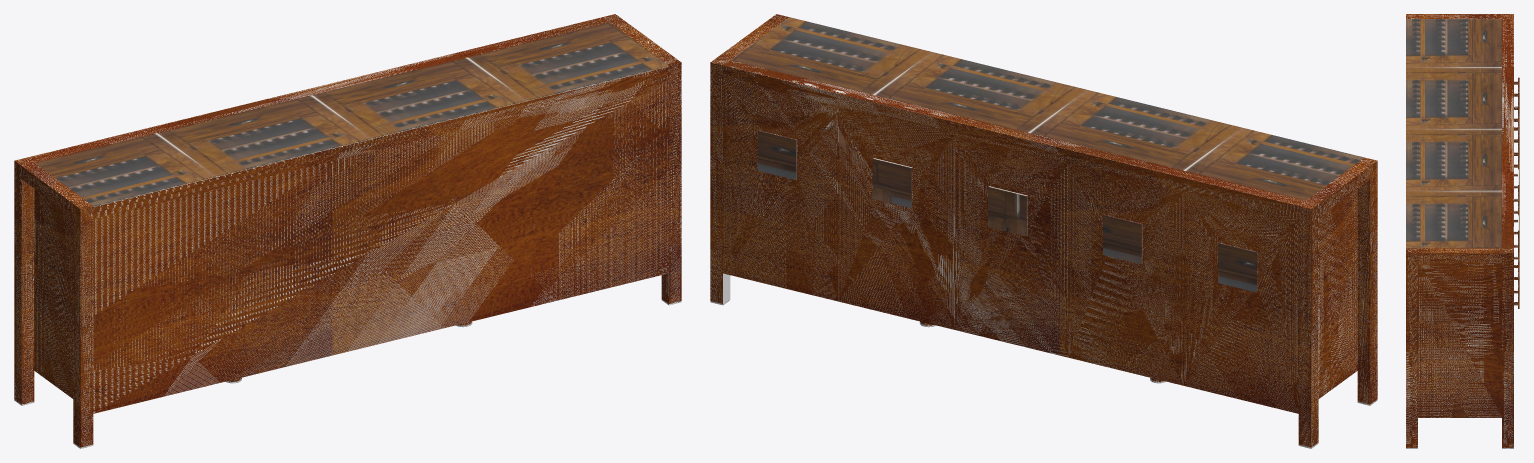
The picture shows the model from 3 angles, left to right: view 1: azimuth 30°, elevation 25°; view 2: azimuth 150°, elevation 25°; view 3: azimuth 270°, elevation 25°; orthographic projection. The views are drawn at different scales.
Parts seen in each view (by area): view 1: mesh1_mesh1-geometry; view 2: mesh1_mesh1-geometry, mesh2_mesh2-geometry, mesh3_mesh3-geometry, mesh6_mesh6-geometry, mesh5_mesh5-geometry, mesh4_mesh4-geometry; view 3: mesh1_mesh1-geometry.
Part boxes in pixels (x1,y1,x2,y2): mesh1_mesh1-geometry: [14, 14, 681, 448]; mesh1_mesh1-geometry: [710, 14, 1377, 448]; mesh2_mesh2-geometry: [757, 130, 796, 180]; mesh3_mesh3-geometry: [872, 158, 911, 208]; mesh6_mesh6-geometry: [1218, 243, 1257, 292]; mesh5_mesh5-geometry: [1103, 215, 1141, 264]; mesh4_mesh4-geometry: [988, 187, 1026, 236]; mesh1_mesh1-geometry: [1406, 14, 1518, 448].
Bounding box in the file's own units: 0.9183 × 0.3502 × 0.1848.
